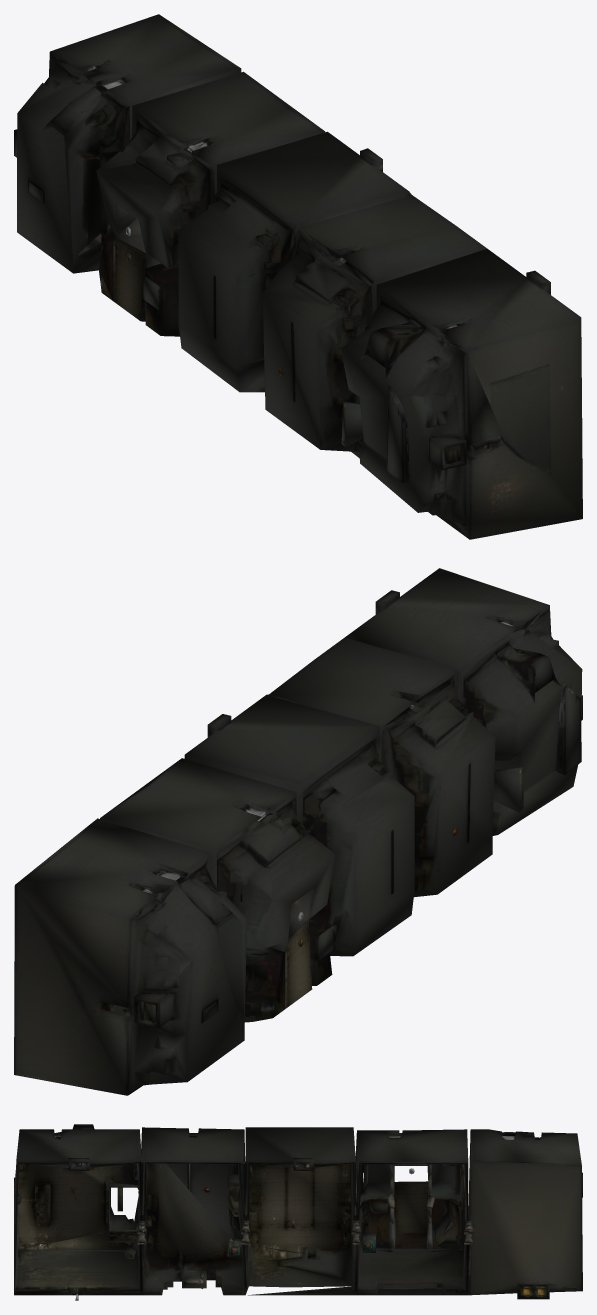
3 renders of one model, top to bottom at view 1: azimuth 30°, elevation 25°; view 2: azimuth 150°, elevation 25°; view 3: azimuth 270°, elevation 25°, orthographic. The views are drawn at different scales.
Visible parts, largest first — view 1: tripo_node_416d7b24; view 2: tripo_node_416d7b24; view 3: tripo_node_416d7b24.
Boxes of the visible parts, bbox=[...] form: tripo_node_416d7b24: bbox=[14, 14, 582, 539]; tripo_node_416d7b24: bbox=[14, 568, 582, 1095]; tripo_node_416d7b24: bbox=[14, 1124, 582, 1300].
Size of the model in its own units: 0.252 by 0.2715 by 0.998.
1 material, 1 textured.
